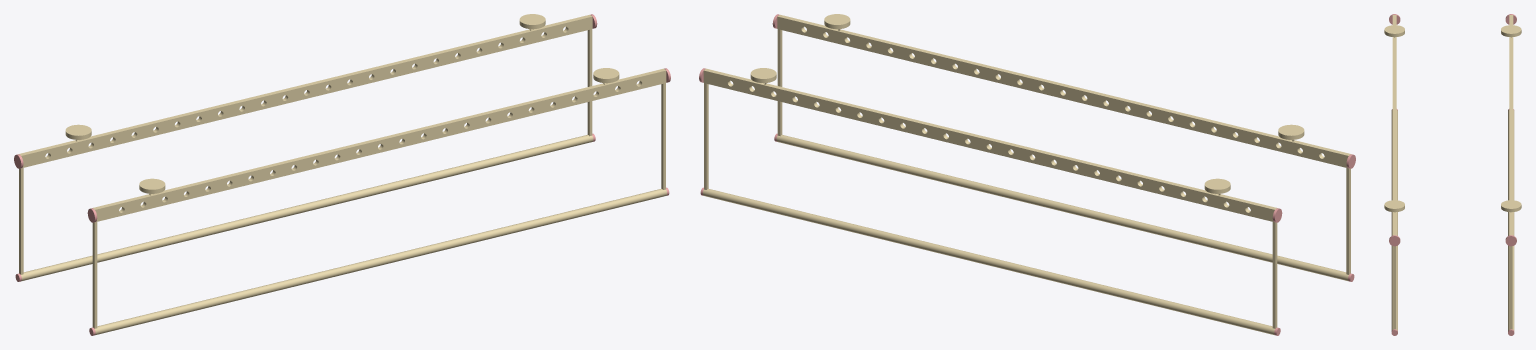
The model's file is drying-rack-hotata-y024-2m-v1.glb.
3 renders of one model, left to right at view 1: azimuth 30°, elevation 25°; view 2: azimuth 150°, elevation 25°; view 3: azimuth 270°, elevation 25°, orthographic. The views are drawn at different scales.
Visible parts, largest first — view 1: moving-room-hang-rail, moving-window-hang-rail, moving-room-quilt-rail, moving-window-quilt-rail, moving-room-link-left, moving-window-link-right, moving-window-link-left, moving-room-link-right; view 2: moving-window-hang-rail, moving-room-hang-rail, moving-window-quilt-rail, moving-room-quilt-rail, moving-window-link-left, moving-room-link-right, moving-room-link-left, moving-window-link-right; view 3: moving-room-hang-rail, moving-window-hang-rail, moving-room-quilt-rail, moving-window-quilt-rail, moving-room-link-right, moving-window-link-right, ceiling-room-right, ceiling-window-right, ceiling-room-left, ceiling-window-left.
Part boxes in pixels (x1,y1,x2,y2): moving-room-hang-rail: [92, 68, 666, 222]; moving-window-hang-rail: [19, 14, 592, 167]; moving-room-quilt-rail: [95, 188, 666, 335]; moving-window-quilt-rail: [21, 134, 593, 281]; moving-room-link-left: [92, 222, 97, 328]; moving-window-link-right: [587, 29, 592, 136]; moving-window-link-left: [19, 168, 23, 274]; moving-room-link-right: [661, 83, 665, 189]; moving-window-hang-rail: [703, 68, 1277, 222]; moving-room-hang-rail: [777, 14, 1350, 167]; moving-window-quilt-rail: [703, 188, 1274, 335]; moving-room-quilt-rail: [776, 134, 1348, 281]; moving-window-link-left: [1272, 222, 1277, 328]; moving-room-link-right: [777, 29, 782, 136]; moving-room-link-left: [1346, 168, 1350, 274]; moving-window-link-right: [704, 83, 708, 189]; moving-room-hang-rail: [1392, 15, 1396, 235]; moving-window-hang-rail: [1509, 15, 1513, 235]; moving-room-quilt-rail: [1391, 110, 1397, 330]; moving-window-quilt-rail: [1508, 110, 1514, 330]; moving-room-link-right: [1393, 246, 1396, 329]; moving-window-link-right: [1509, 246, 1512, 329]; ceiling-room-right: [1384, 200, 1404, 212]; ceiling-window-right: [1501, 200, 1521, 212]; ceiling-room-left: [1384, 25, 1404, 37]; ceiling-window-left: [1501, 25, 1521, 37].
Bounding box in the file's own units: 2.03 × 0.46 × 0.53.
